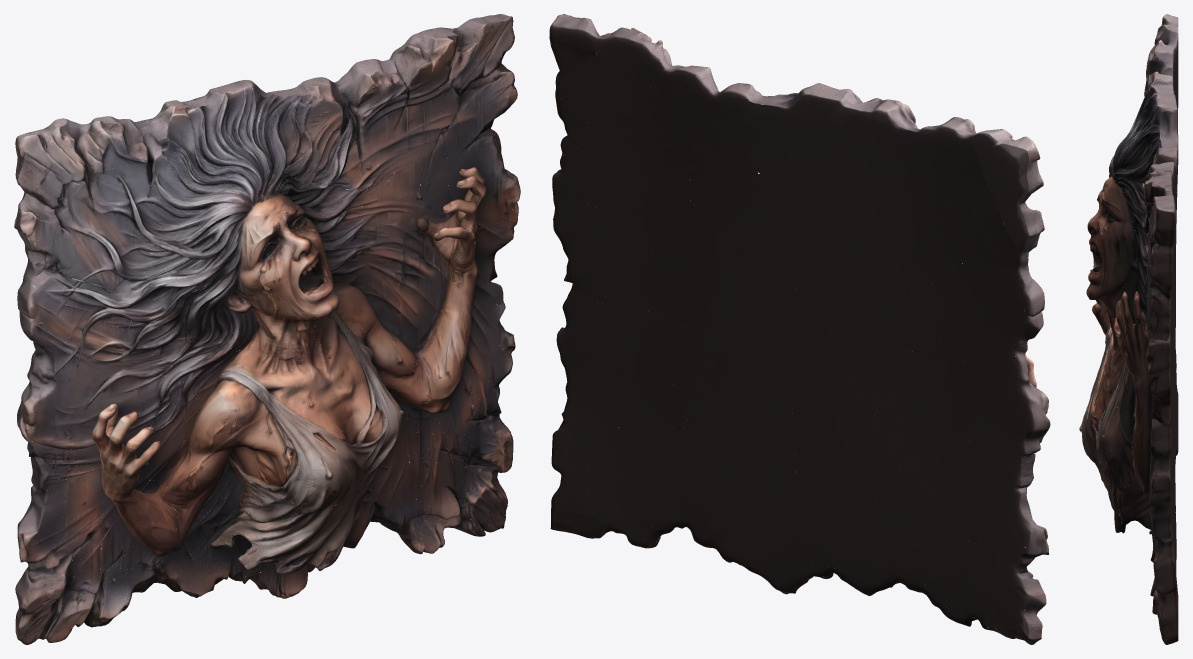
The model's file is H48-web.glb.
3 renders of one model, left to right at view 1: azimuth 30°, elevation 25°; view 2: azimuth 150°, elevation 25°; view 3: azimuth 270°, elevation 25°, orthographic. The views are drawn at different scales.
Parts seen in each view (by area): view 1: tripo_node_1fef89d1-7f9f-4a8f-aab0-4f59e3837795; view 2: tripo_node_1fef89d1-7f9f-4a8f-aab0-4f59e3837795; view 3: tripo_node_1fef89d1-7f9f-4a8f-aab0-4f59e3837795.
Boxes of the visible parts, bbox=[...] form: tripo_node_1fef89d1-7f9f-4a8f-aab0-4f59e3837795: bbox=[14, 14, 520, 644]; tripo_node_1fef89d1-7f9f-4a8f-aab0-4f59e3837795: bbox=[549, 14, 1050, 644]; tripo_node_1fef89d1-7f9f-4a8f-aab0-4f59e3837795: bbox=[1079, 14, 1178, 644].
Bounding box in the file's own units: 0.5917 × 0.6001 × 0.1202.
1 material, 1 textured.
